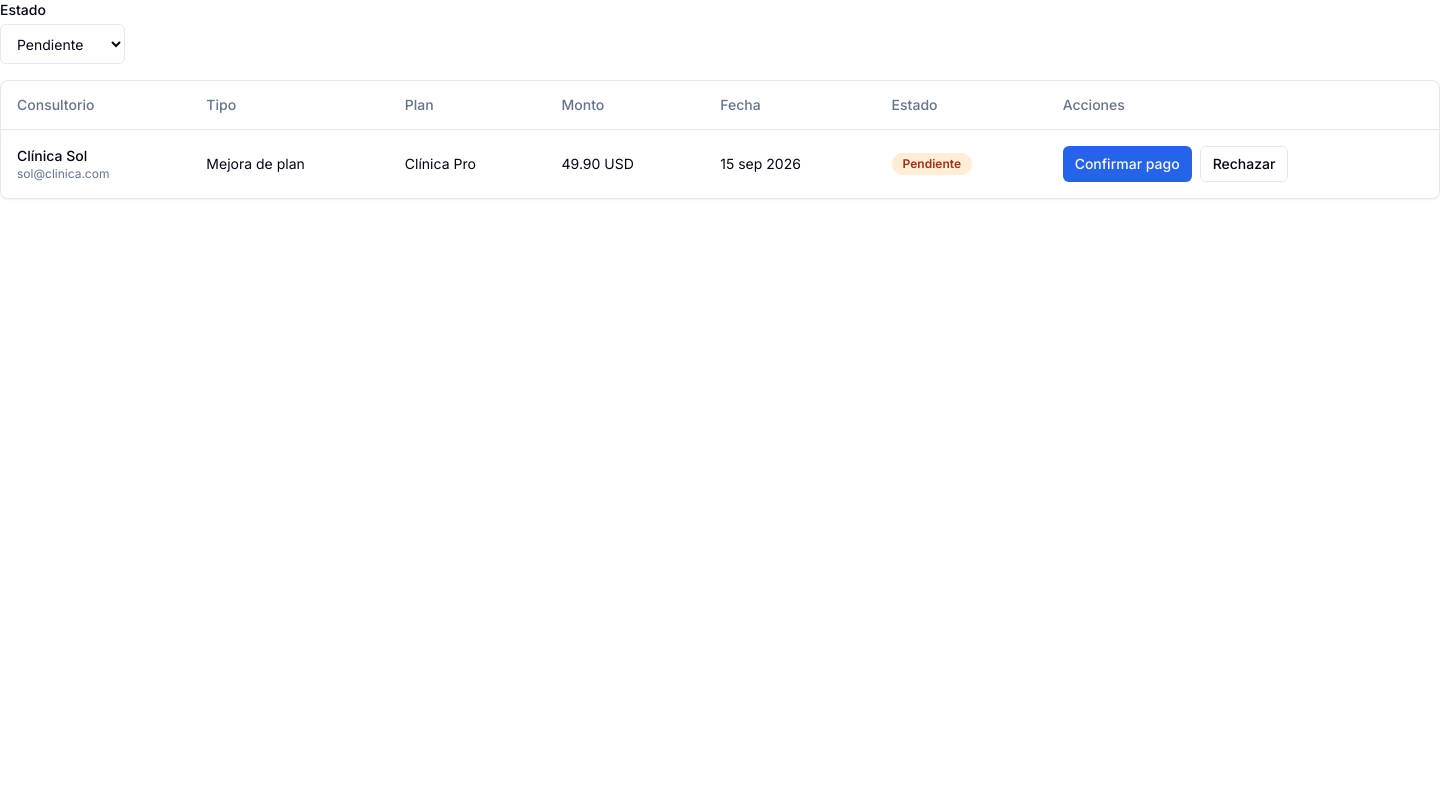
Test: PaymentsTable › requires a reference to confirm and sends it
The width and height of the screenshot is (1440, 810).
Expected: the link "Clínica Sol" is shown, [17, 146, 87, 164]
Click the button "Confirmar pago". click: {"x": 1127, "y": 164}
box: [1063, 146, 1192, 182]
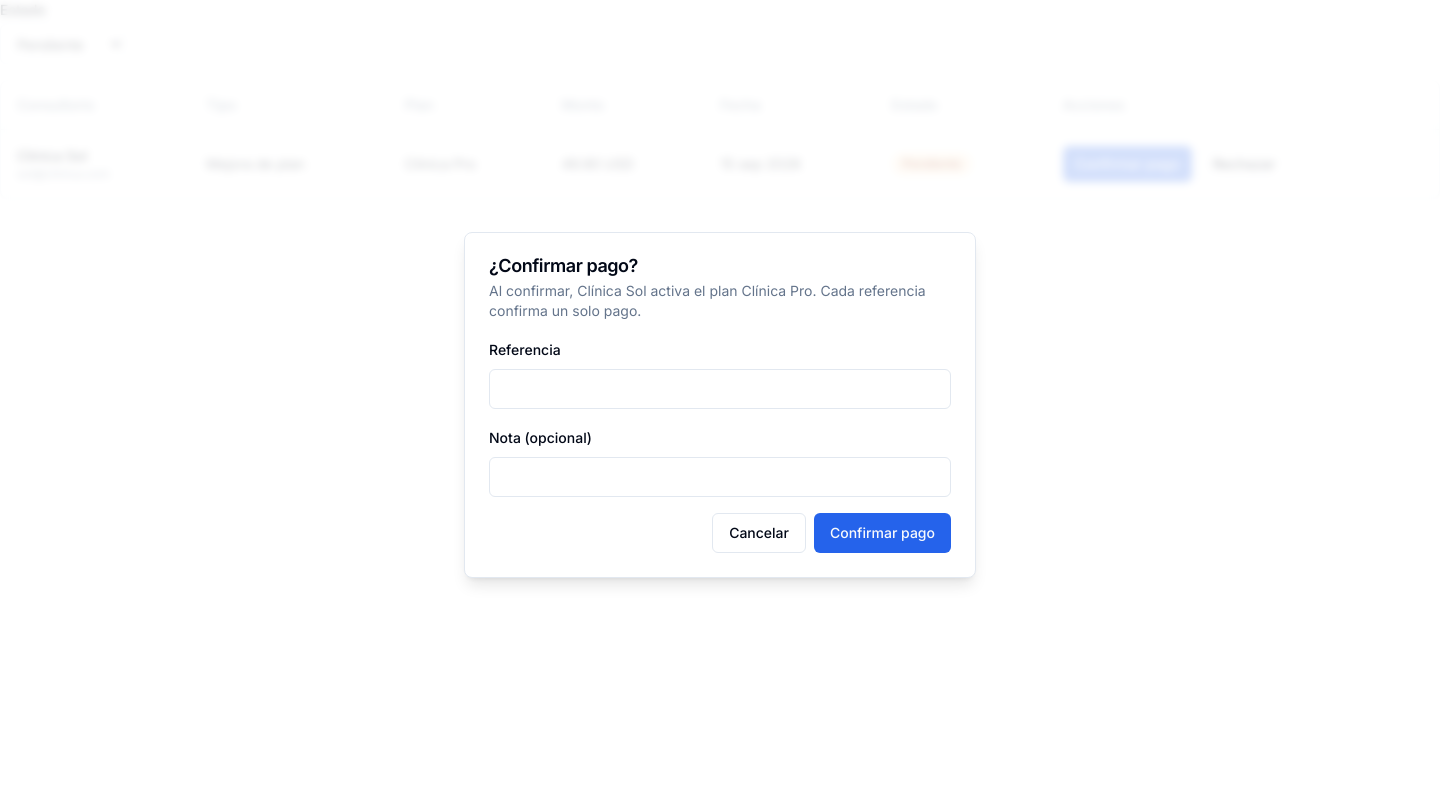
Click the button "Confirmar pago". click: {"x": 882, "y": 533}
box: [814, 513, 951, 553]
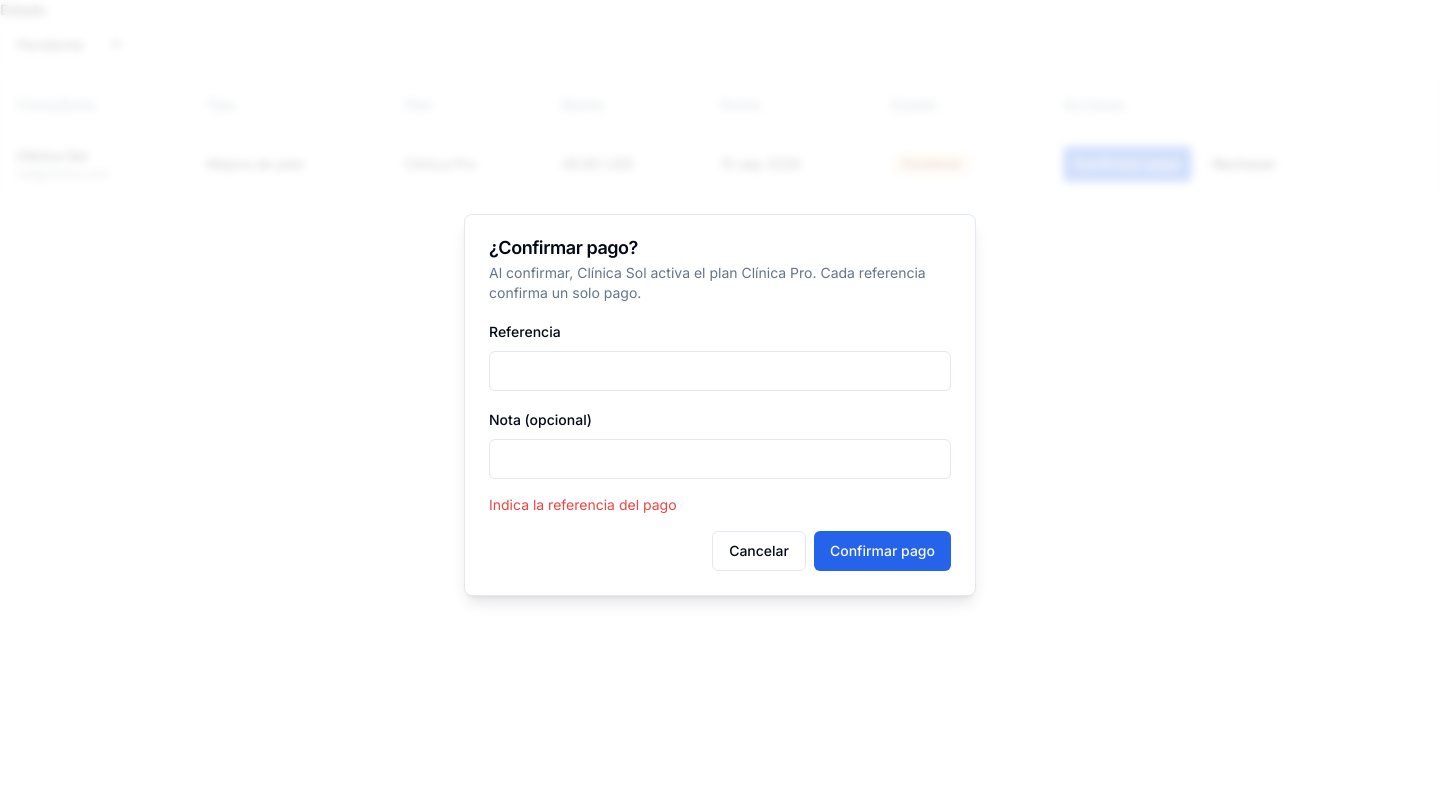
Result: the message reads "Indica la referencia del pago" at [489, 496, 676, 513]
Type "  TRF-123  " into the field labelled "Referencia". click: {"x": 720, "y": 371}
box: [489, 351, 951, 391]
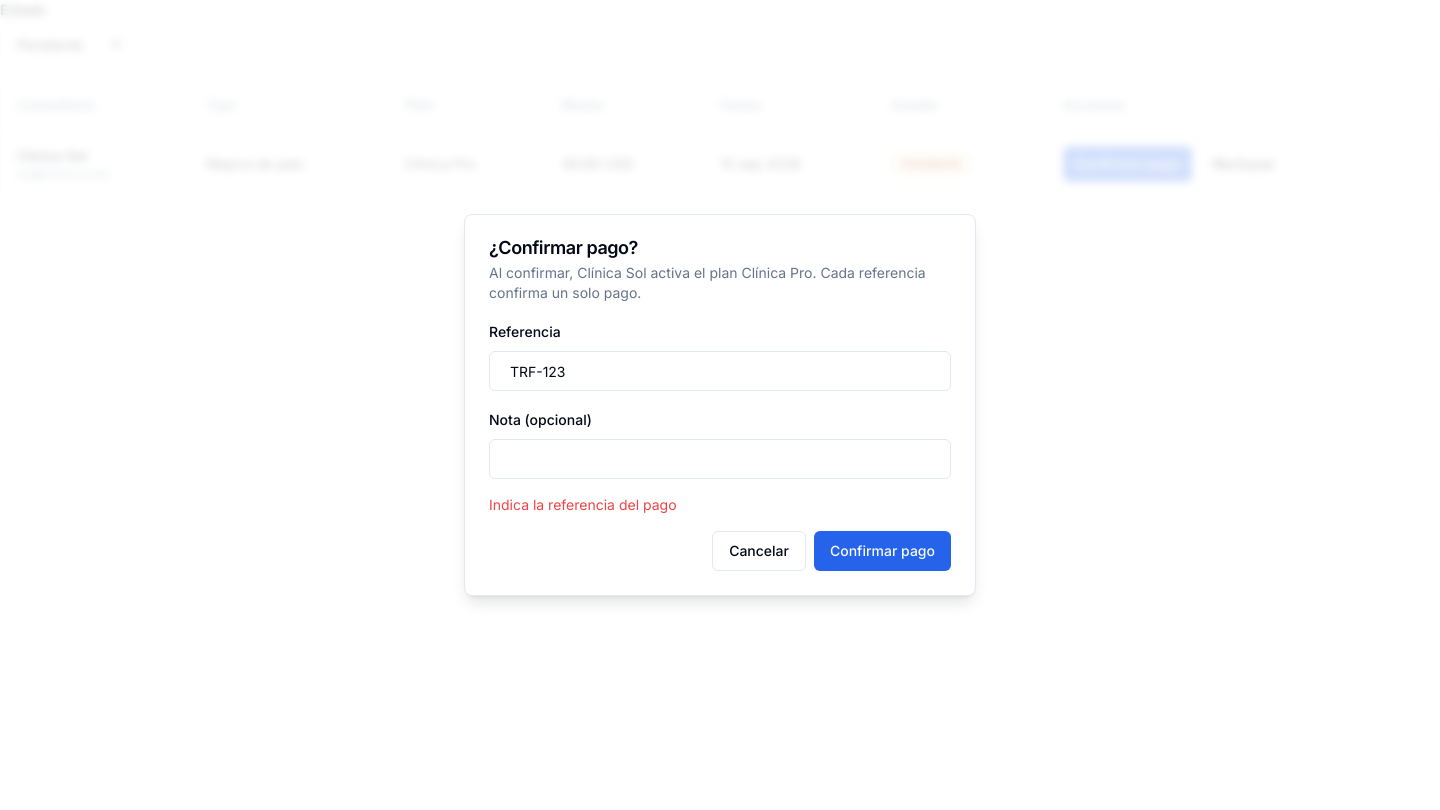
Type "Verificado" into the field labelled "Nota (opcional)". click: {"x": 720, "y": 459}
box: [489, 439, 951, 479]
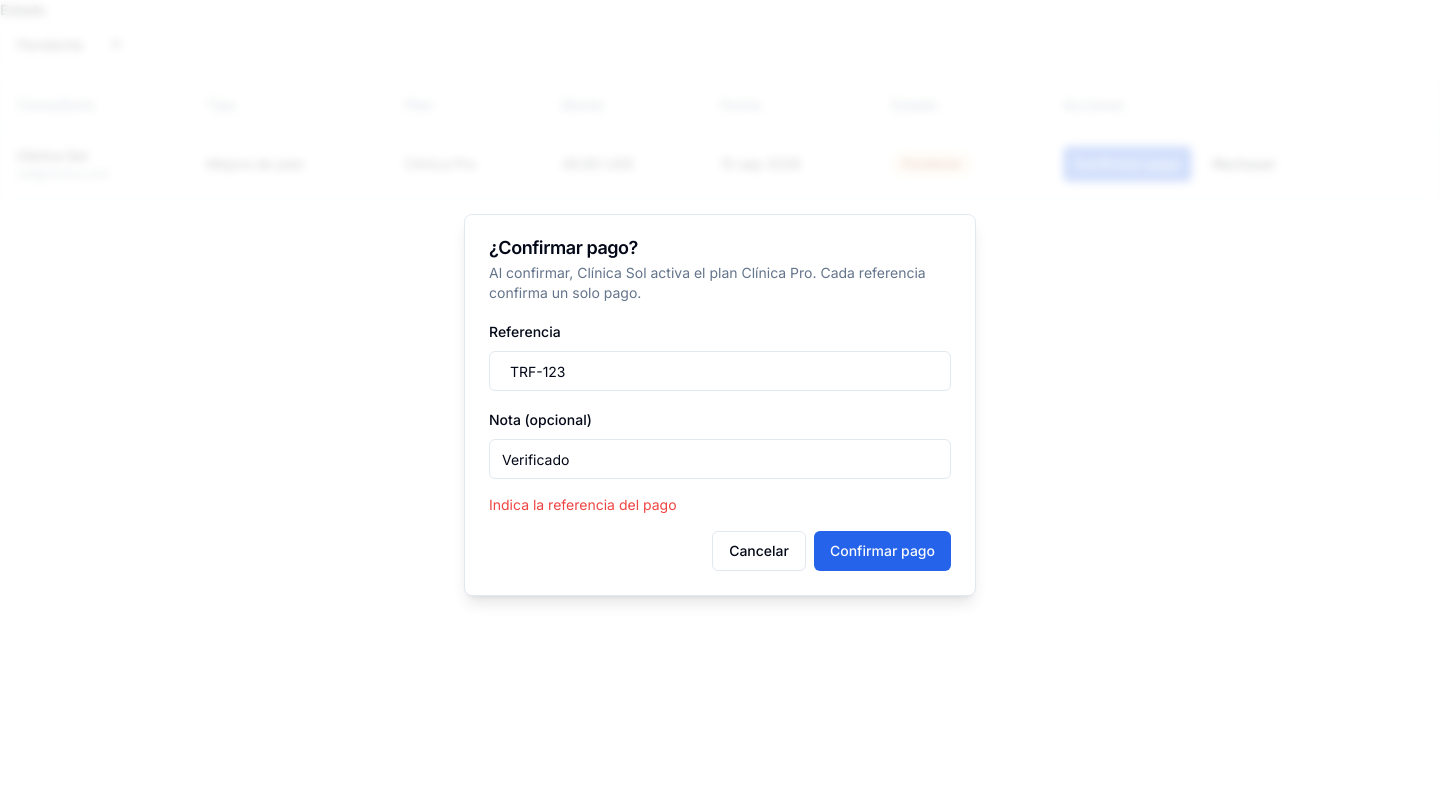
Click the button "Confirmar pago". click: {"x": 882, "y": 551}
box: [814, 531, 951, 571]
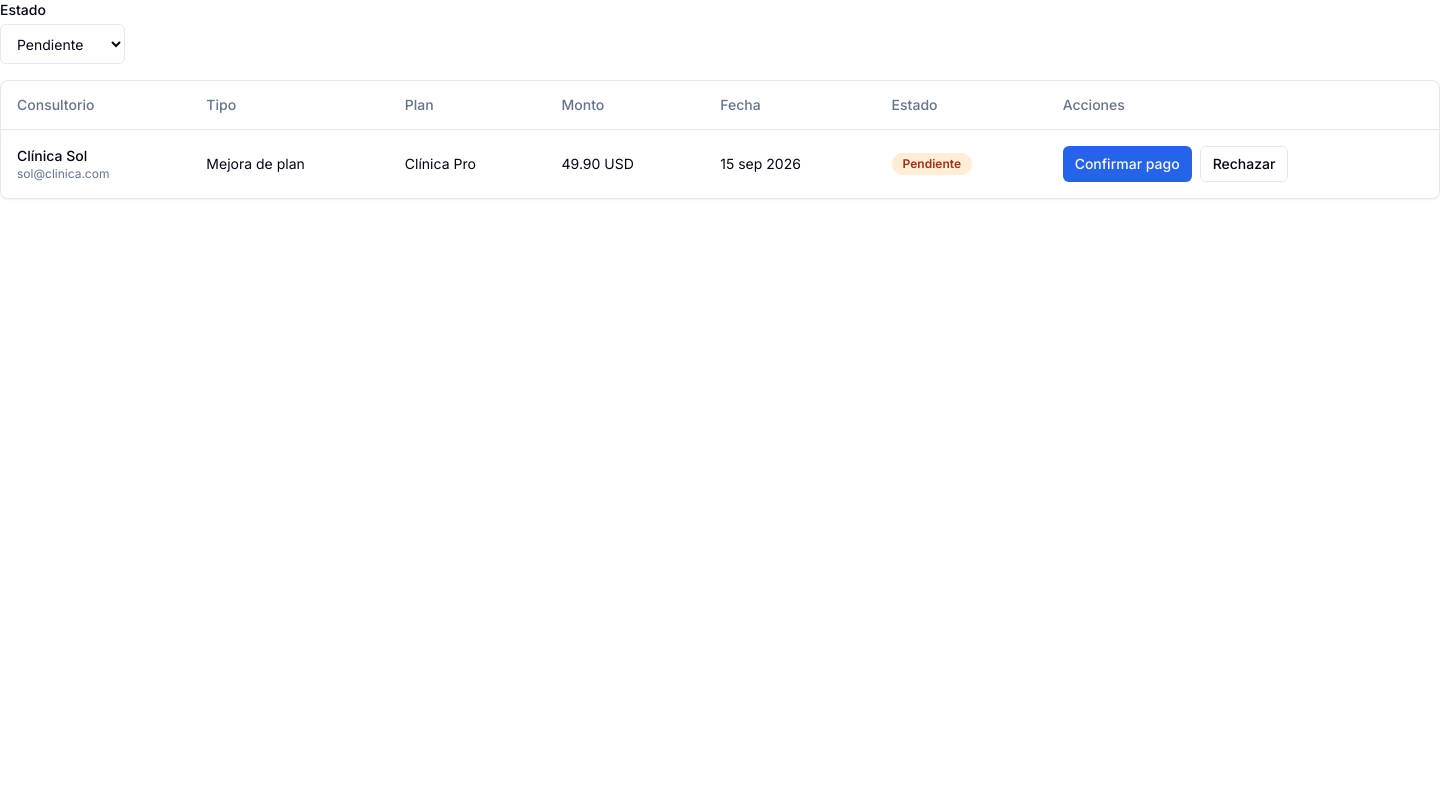
Result: the dialog is gone
